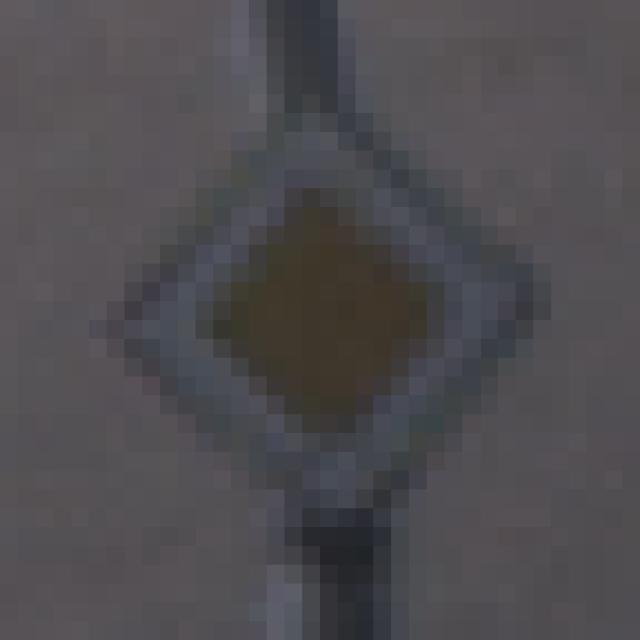Main Road: (108, 95, 552, 547)
